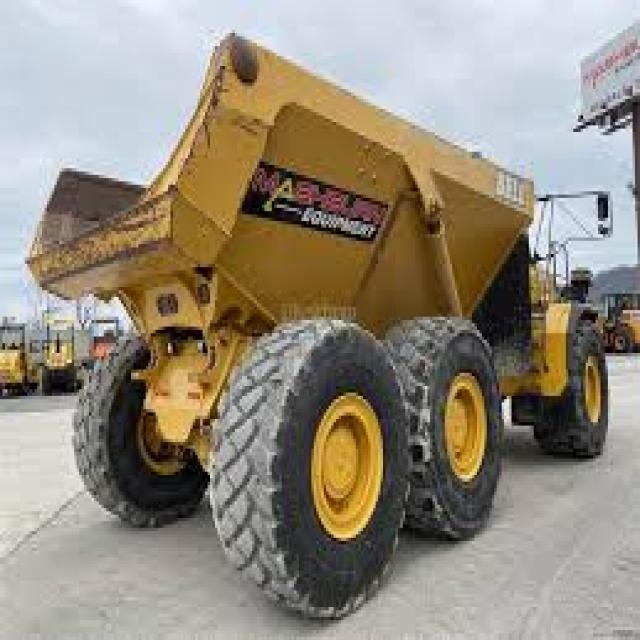dump_truck: (17, 23, 618, 601)
